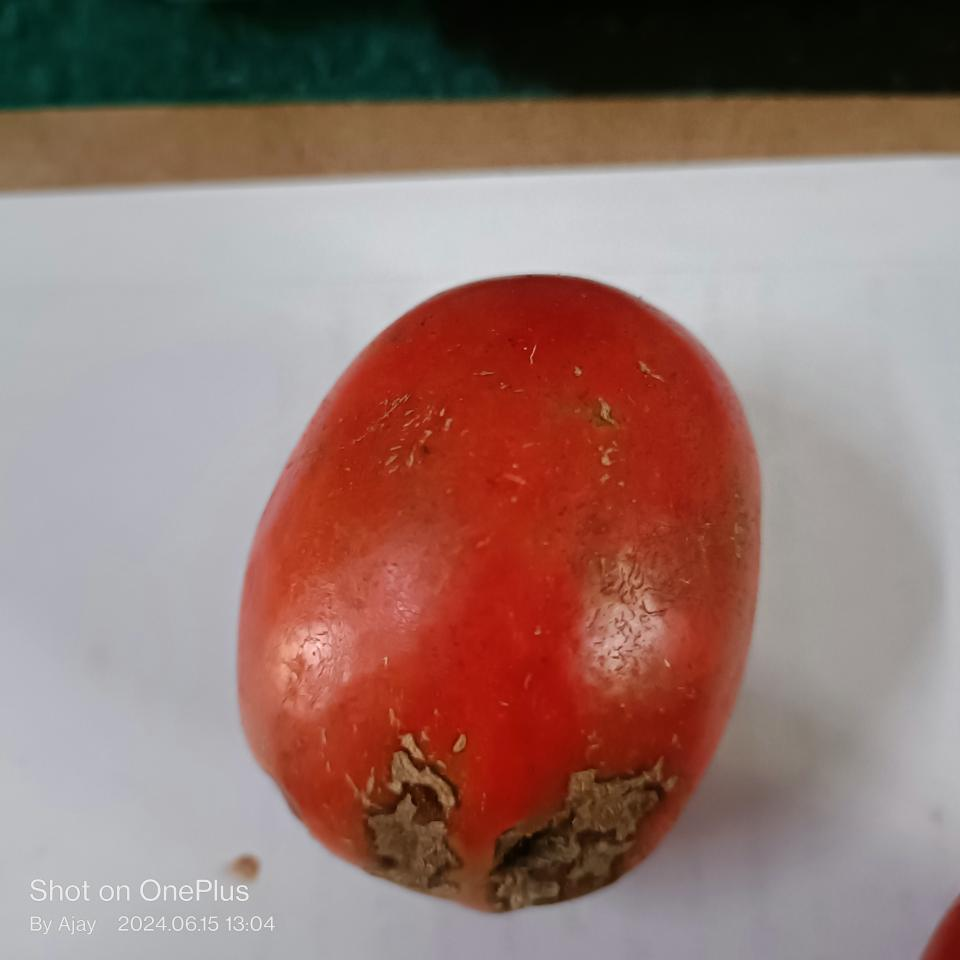Bacterial_Spot: (327, 723, 465, 883), (495, 764, 648, 906)
